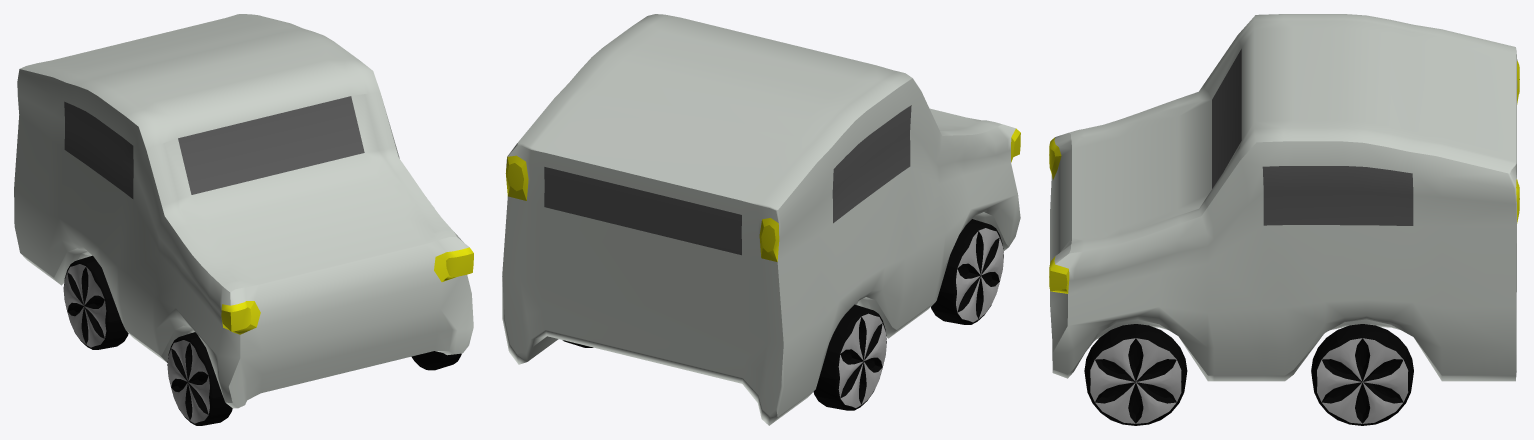
File: Rover.fbx
3 renders of one model, left to right at view 1: azimuth 30°, elevation 25°; view 2: azimuth 150°, elevation 25°; view 3: azimuth 270°, elevation 25°, orthographic. The views are drawn at different scales.
Parts seen in each view (by area): view 1: Car, Wheel_BackRight, Wheel_FrontRight, Wheel_FrontLeft; view 2: Car, Wheel_BackRight, Wheel_FrontRight; view 3: Car, Wheel_FrontLeft, Wheel_BackLeft.
Boxes of the visible parts, x1,y1,x2,y2 form: Car: [14, 14, 473, 408]; Wheel_BackRight: [63, 255, 128, 349]; Wheel_FrontRight: [167, 332, 232, 425]; Wheel_FrontLeft: [411, 351, 461, 370]; Car: [502, 14, 1020, 425]; Wheel_BackRight: [813, 304, 886, 410]; Wheel_FrontRight: [931, 219, 1003, 324]; Car: [1049, 14, 1519, 381]; Wheel_FrontLeft: [1084, 324, 1187, 425]; Wheel_BackLeft: [1311, 324, 1413, 425].
Size of the model in its own units: 215 by 207 by 311.
